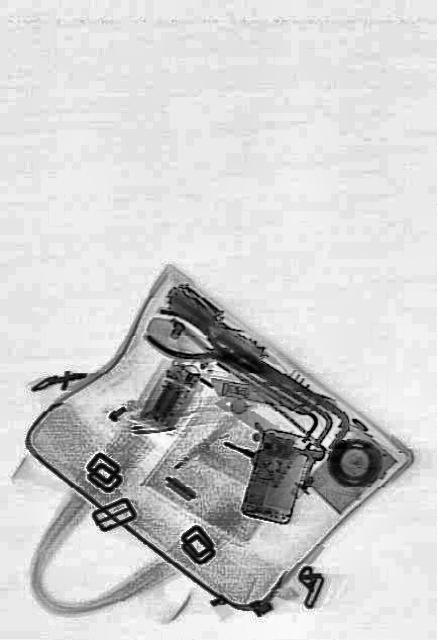Pliers: (144, 301, 248, 387)
